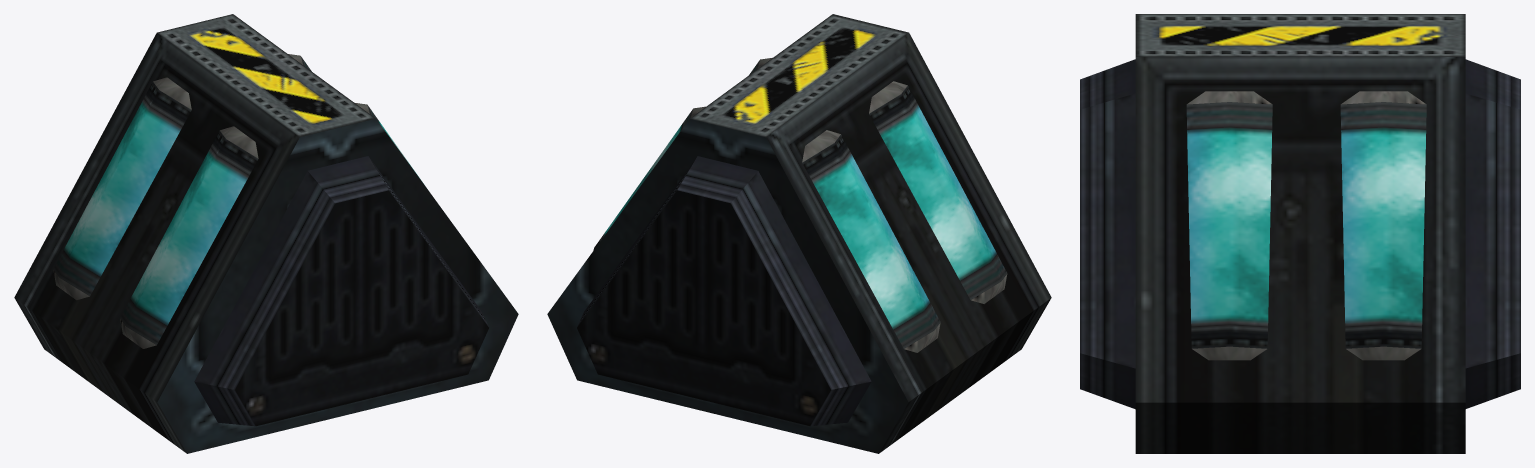
Rendered from Battery_medium_05.FBX.
3 views of the same model, side by side, from view 1: azimuth 30°, elevation 25°; view 2: azimuth 150°, elevation 25°; view 3: azimuth 270°, elevation 25° (orthographic). The views are drawn at different scales.
Visible parts, largest first — view 1: Battery_medium_05; view 2: Battery_medium_05; view 3: Battery_medium_05.
Part boxes in pixels (x1,y1,x2,y2): Battery_medium_05: (14,14,518,453); Battery_medium_05: (547,14,1051,453); Battery_medium_05: (1080,14,1520,453).
Bounding box in the file's own units: 199 × 152 × 182.
